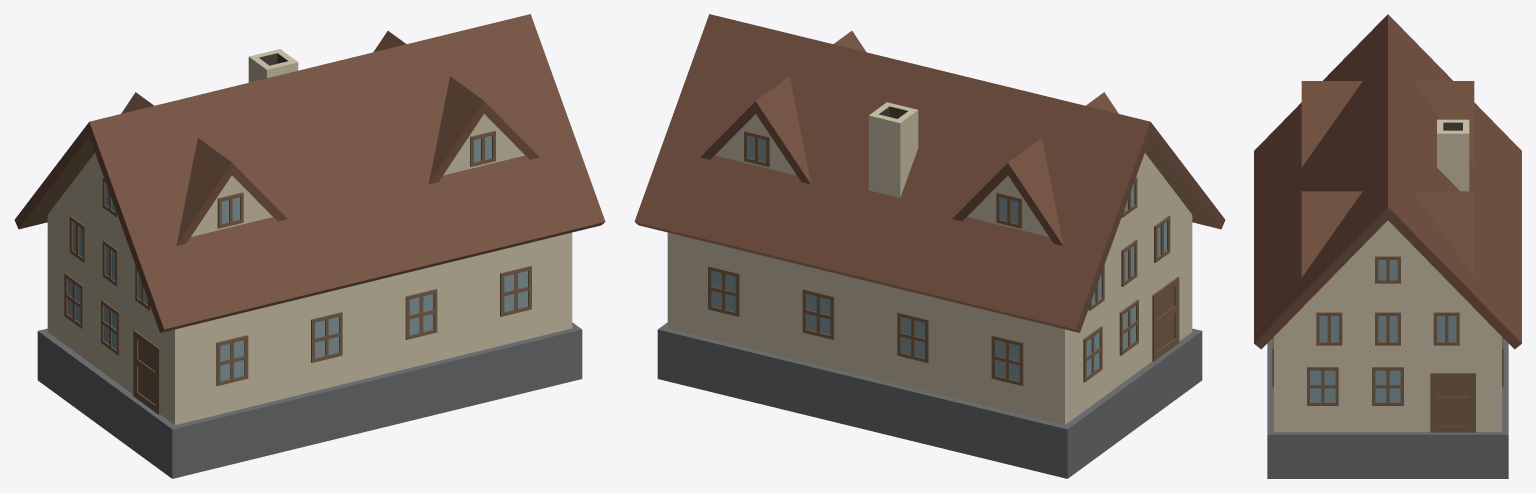
File: House_A.fbx
3 views of the same model, side by side, from view 1: azimuth 30°, elevation 25°; view 2: azimuth 150°, elevation 25°; view 3: azimuth 270°, elevation 25° (orthographic). The views are drawn at different scales.
Parts seen in each view (by area): view 1: House_A_Base; view 2: House_A_Base; view 3: House_A_Base.
Boxes of the visible parts, left/top/right/bottom form: House_A_Base: left=14, top=14, right=605, bottom=478; House_A_Base: left=634, top=14, right=1225, bottom=478; House_A_Base: left=1254, top=14, right=1521, bottom=478.
Size of the model in its own units: 1400 by 945 by 822.
